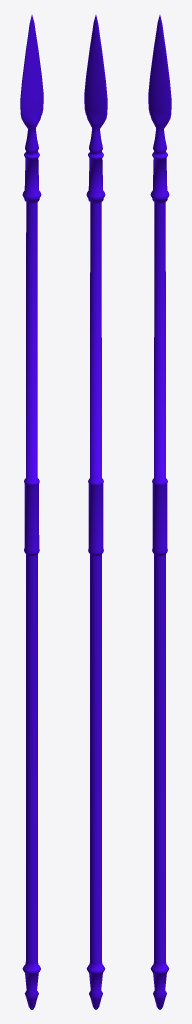
File: Spear.FBX
3 renders of one model, left to right at view 1: azimuth 30°, elevation 25°; view 2: azimuth 150°, elevation 25°; view 3: azimuth 330°, elevation 25°, orthographic.
Parts seen in each view (by area): view 1: Spear; view 2: Spear; view 3: Spear.
Part boxes in pixels (<box>): Spear: <box>20,15,43,1009</box>; Spear: <box>84,15,107,1009</box>; Spear: <box>148,15,171,1009</box>.
Size of the model in its own units: 5.76 by 235 by 4.05.
